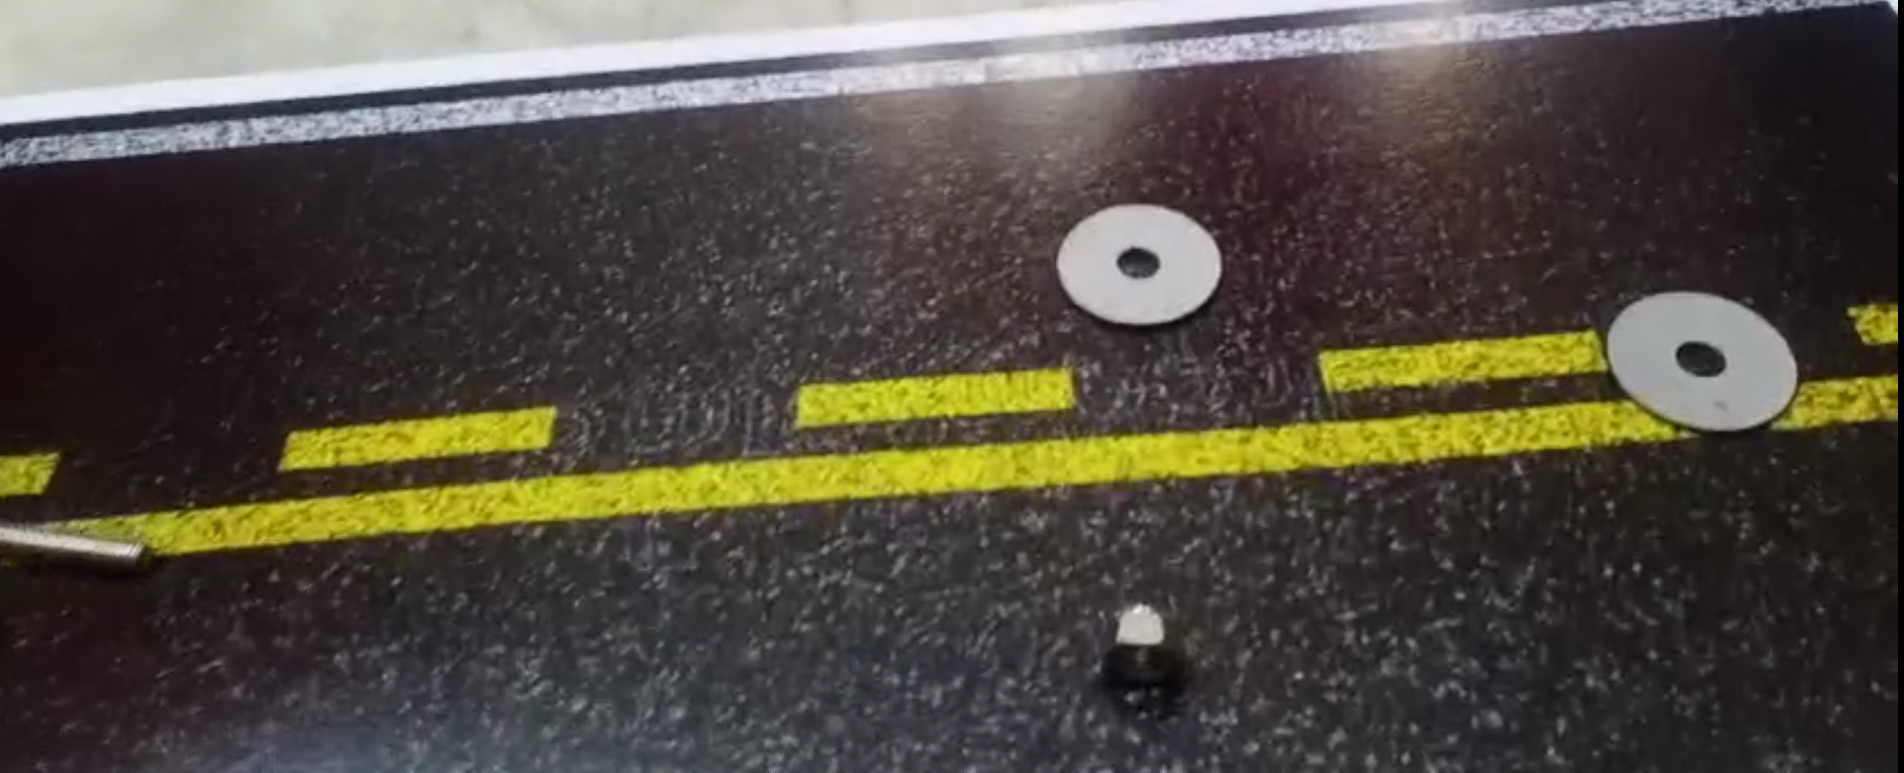metal: (1604, 291, 1804, 437), (1052, 197, 1230, 334), (1, 513, 161, 579), (1094, 602, 1197, 689)
